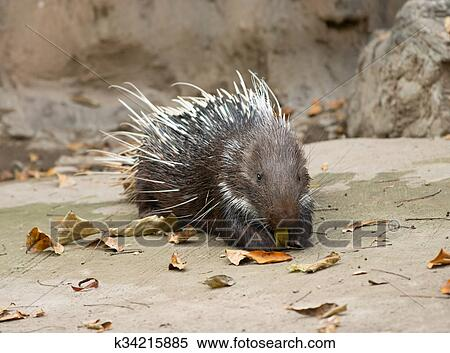porcupine: (95, 70, 330, 256)
